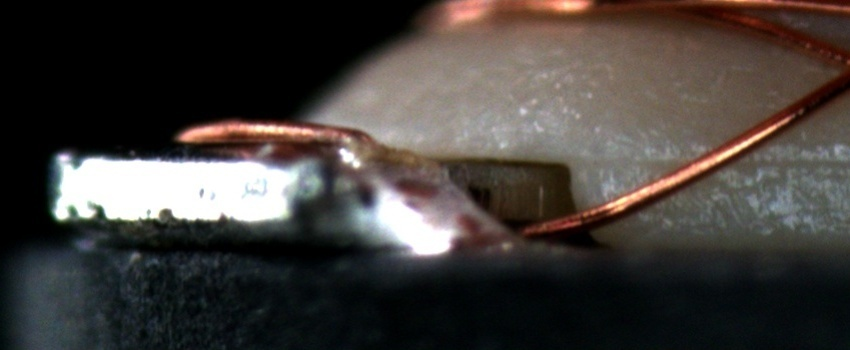DL: (603, 128, 849, 187)
TE: (163, 115, 369, 154)
